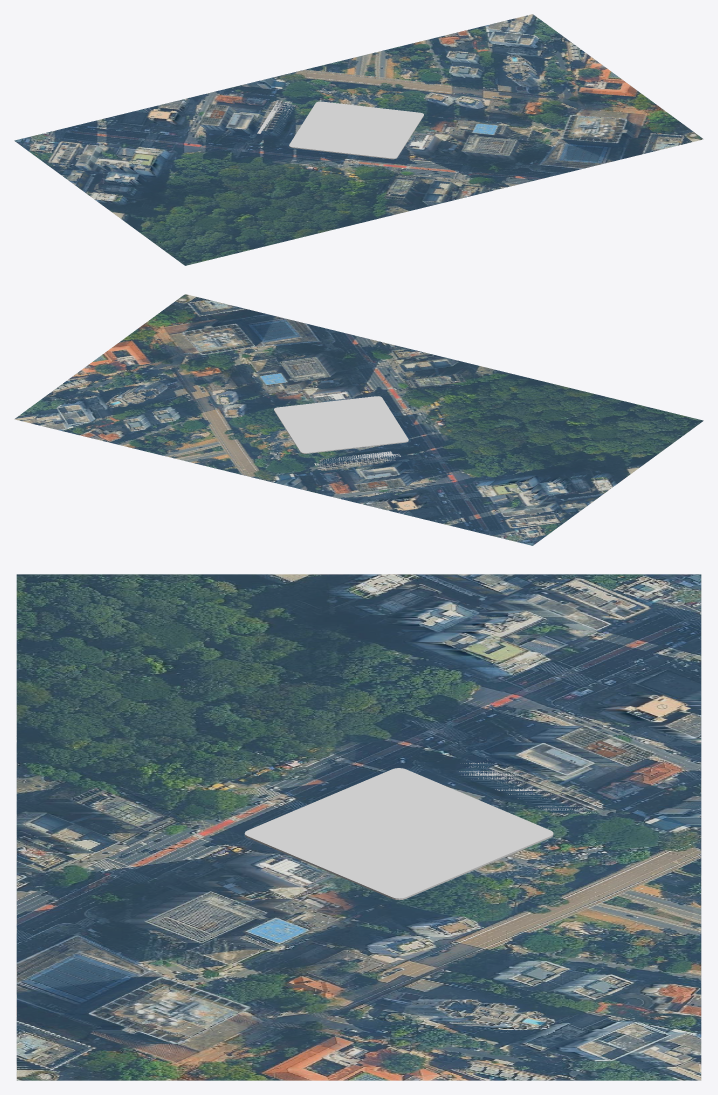
The model's file is MaspMaps.dae.
3 renders of one model, top to bottom at view 1: azimuth 30°, elevation 25°; view 2: azimuth 150°, elevation 25°; view 3: azimuth 270°, elevation 25°, orthographic. The views are drawn at different scales.
Parts seen in each view (by area): view 1: EXPORT_GOOGLE_SAT_WM, Plane.004; view 2: EXPORT_GOOGLE_SAT_WM, Plane.004, Plane.003; view 3: EXPORT_GOOGLE_SAT_WM, Plane.004.
Part boxes in pixels (box(x1,y1,x2,y2)): EXPORT_GOOGLE_SAT_WM: box(14, 14, 703, 265); Plane.004: box(289, 101, 423, 159); EXPORT_GOOGLE_SAT_WM: box(14, 294, 703, 545); Plane.004: box(274, 396, 408, 453); Plane.003: box(314, 451, 400, 468); EXPORT_GOOGLE_SAT_WM: box(16, 574, 701, 1080); Plane.004: box(244, 768, 553, 899).
Bounding box in the file's own units: 535 × 306 × 0.8037.
1 material, 1 textured.
